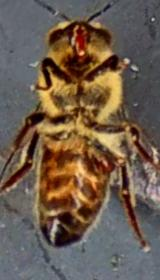varroa_mite: (90, 146, 116, 174)
